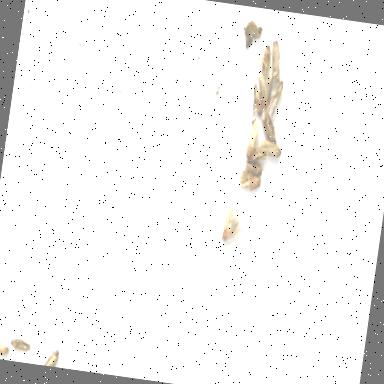pbw: (219, 200, 248, 244), (254, 104, 282, 144), (266, 36, 286, 82), (243, 116, 262, 158), (253, 71, 273, 108), (237, 167, 262, 193), (248, 80, 266, 116), (267, 78, 284, 116), (258, 42, 272, 78), (243, 157, 264, 177), (42, 346, 62, 367), (247, 144, 268, 164), (263, 70, 275, 100), (10, 336, 32, 352), (262, 142, 284, 156), (0, 340, 9, 356)
